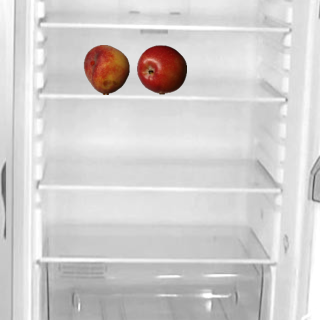Apple Braeburn: (136, 44, 186, 94)
Peach: (81, 44, 131, 94)
